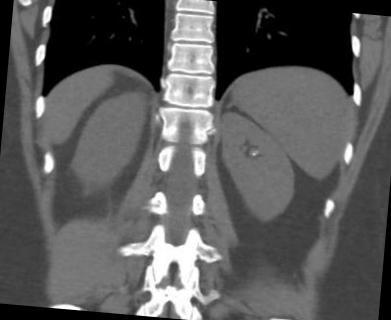Tas_Var: (250, 152, 256, 158), (254, 150, 259, 154)
